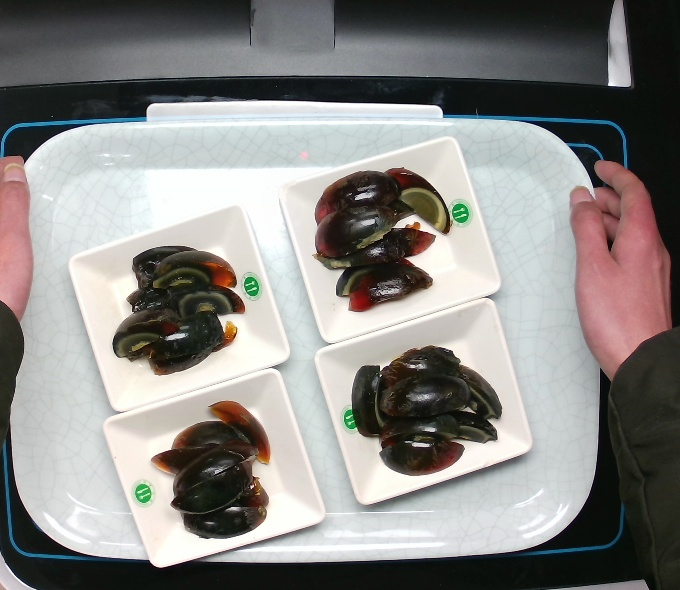wcq-PiDan: (337, 325, 502, 480), (311, 160, 454, 317), (147, 391, 292, 542), (106, 230, 250, 380)
